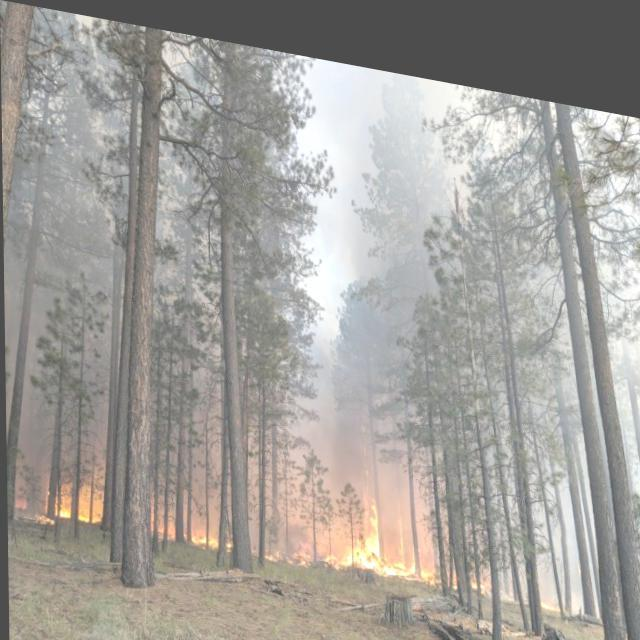Fire: (314, 481, 434, 572), (46, 490, 104, 525), (184, 517, 236, 551)
